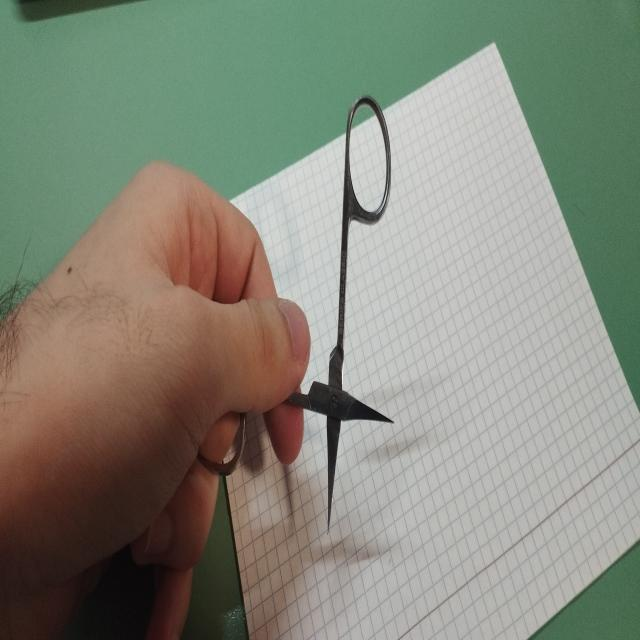tesoura: (191, 88, 399, 544)
